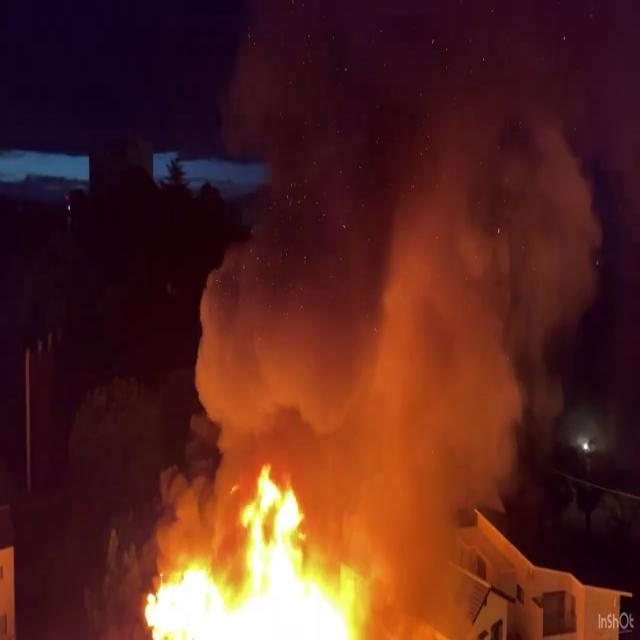Fire: (131, 466, 383, 640)
Smoke: (190, 15, 630, 506)
